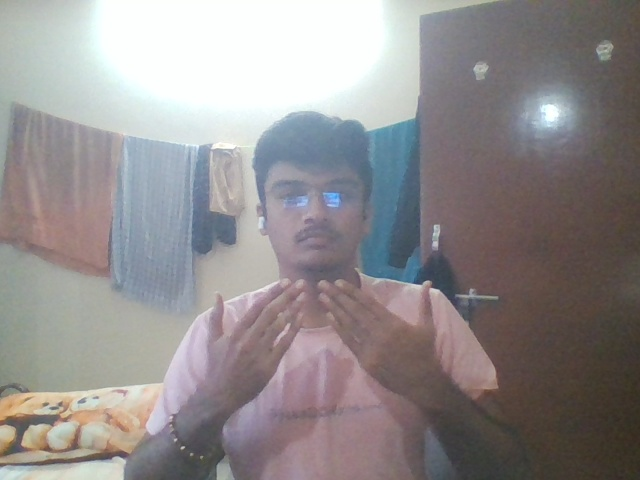thank you: (208, 265, 445, 408)
